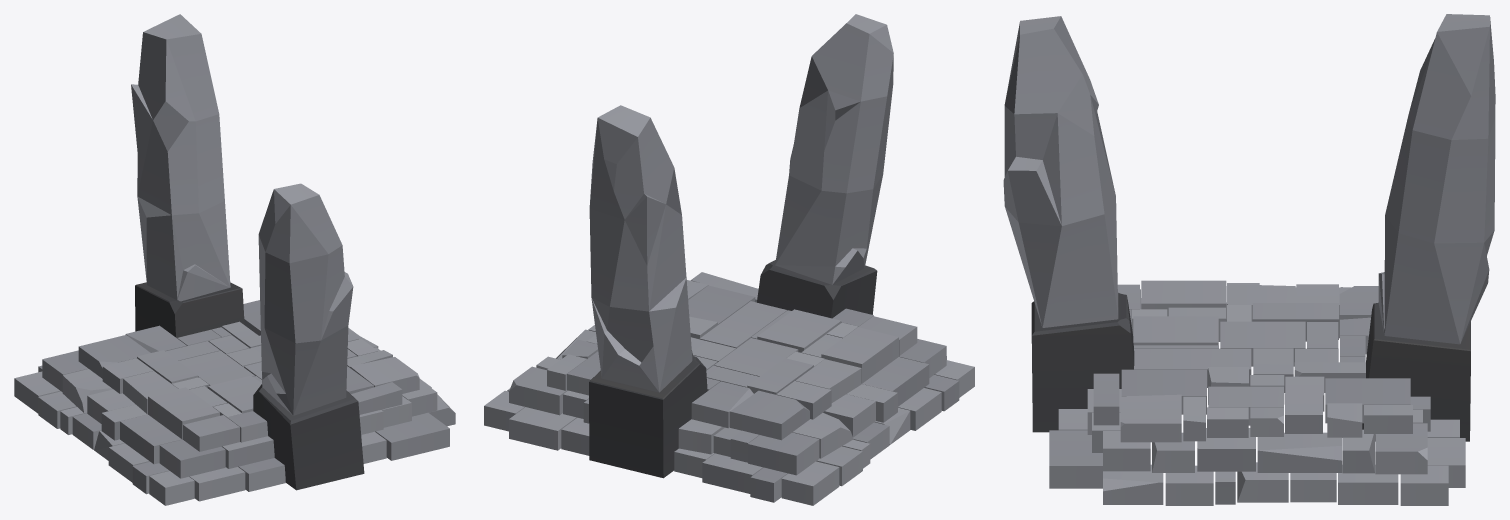
The model's file is Altar.fbx.
3 views of the same model, side by side, from view 1: azimuth 30°, elevation 25°; view 2: azimuth 150°, elevation 25°; view 3: azimuth 270°, elevation 25° (orthographic). The views are drawn at different scales.
Visible parts, largest first — view 1: Altar; view 2: Altar; view 3: Altar.
Boxes of the visible parts, <box> form: Altar: <box>14,14,455,505</box>; Altar: <box>484,14,974,505</box>; Altar: <box>1003,14,1495,505</box>.
Size of the model in its own units: 1.74 by 1.95 by 1.77.
1 material, 1 textured.
